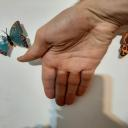OpenPalm: (16, 8, 120, 108)
